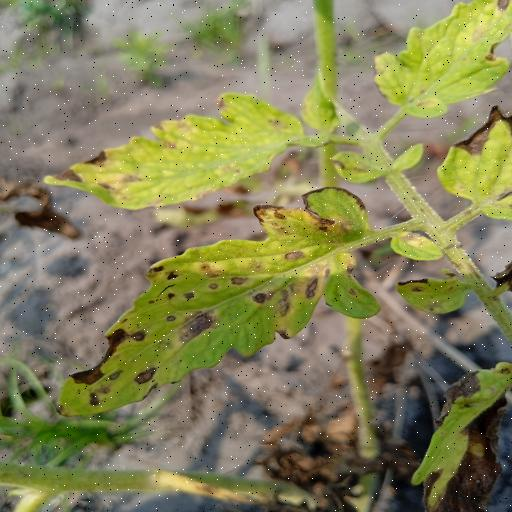Tomato_Brown_Spots: (50, 184, 383, 422), (37, 89, 317, 207), (366, 0, 512, 119)
